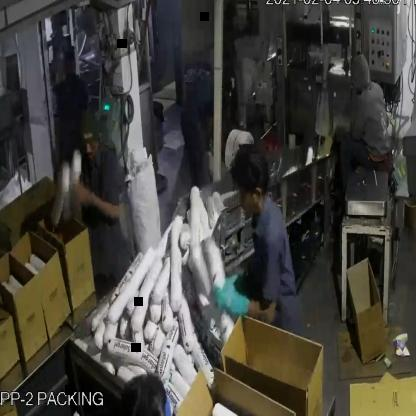glove: (206, 262, 255, 332)
no_glove: (68, 173, 125, 234)
